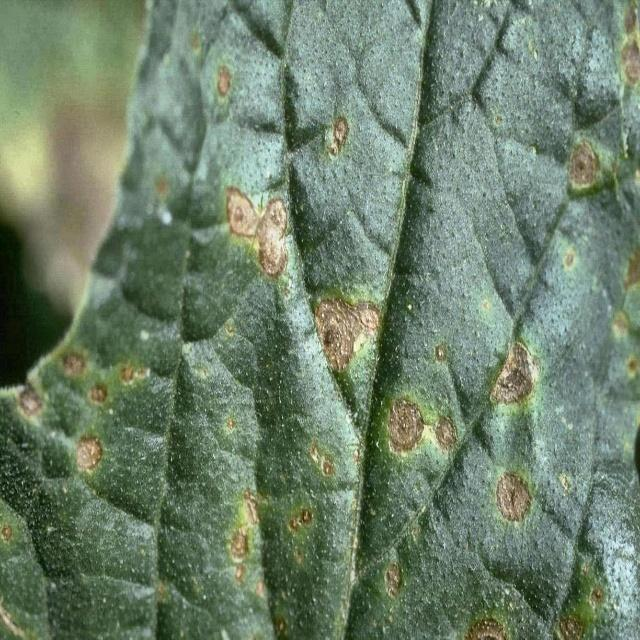leaf_spot: (5, 5, 634, 640)
